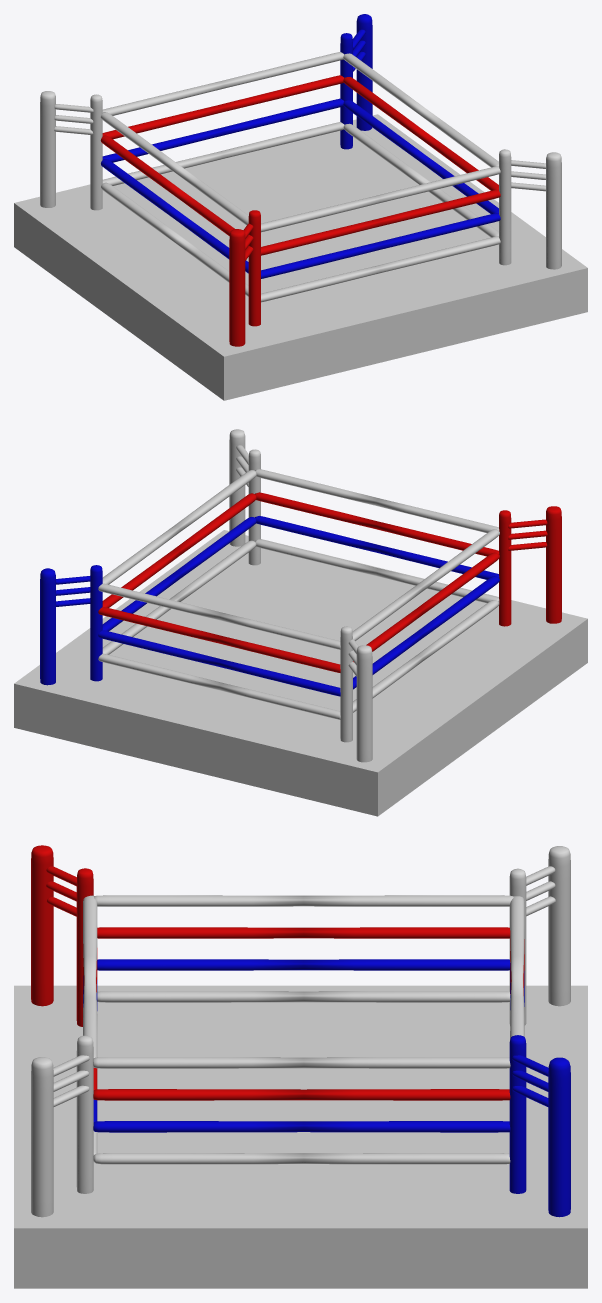
The model's file is bxgrglwpx1.fbx.
The picture shows the model from 3 angles, top to bottom: view 1: azimuth 30°, elevation 25°; view 2: azimuth 150°, elevation 25°; view 3: azimuth 270°, elevation 25°; orthographic projection. The views are drawn at different scales.
Parts seen in each view (by area): view 1: Cube.050, Cube.051, Cube.049, Cube.041, Cube.042, Cube.043, Cube.044, Cube.052, Cube.047, Cube.046, Cube.045, Cube.048; view 2: Cube.050, Cube.051, Cube.049, Cube.041, Cube.042, Cube.043, Cube.044, Cube.052, Cube.047, Cube.046, Cube.045, Cube.048; view 3: Cube.050, Cube.051, Cube.052, Cube.047, Cube.046, Cube.045, Cube.049, Cube.041, Cube.048.
Boxes of the visible parts, <box> form: Cube.050: <box>14,114,587,400</box>; Cube.051: <box>40,14,561,346</box>; Cube.049: <box>90,33,511,326</box>; Cube.041: <box>102,52,500,232</box>; Cube.042: <box>102,75,500,255</box>; Cube.043: <box>102,98,500,278</box>; Cube.044: <box>102,122,500,302</box>; Cube.052: <box>100,53,498,225</box>; Cube.047: <box>100,77,498,235</box>; Cube.046: <box>101,100,498,273</box>; Cube.045: <box>101,123,498,296</box>; Cube.048: <box>54,29,545,260</box>; Cube.050: <box>14,530,587,816</box>; Cube.051: <box>40,429,561,762</box>; Cube.049: <box>90,449,511,742</box>; Cube.041: <box>98,469,499,649</box>; Cube.042: <box>98,492,499,672</box>; Cube.043: <box>98,516,499,696</box>; Cube.044: <box>98,539,499,719</box>; Cube.052: <box>102,470,499,640</box>; Cube.047: <box>102,493,499,661</box>; Cube.046: <box>102,517,499,689</box>; Cube.045: <box>102,540,499,712</box>; Cube.048: <box>56,445,547,676</box>; Cube.050: <box>14,985,587,1288</box>; Cube.051: <box>31,845,570,1217</box>; Cube.052: <box>93,895,513,1068</box>; Cube.047: <box>93,927,510,1100</box>; Cube.046: <box>93,959,510,1132</box>; Cube.045: <box>93,991,510,1164</box>; Cube.049: <box>76,868,526,1193</box>; Cube.041: <box>83,895,524,1057</box>; Cube.048: <box>46,866,555,1106</box>.
Bounding box in the file's own units: 15.83 × 6.51 × 15.83.
